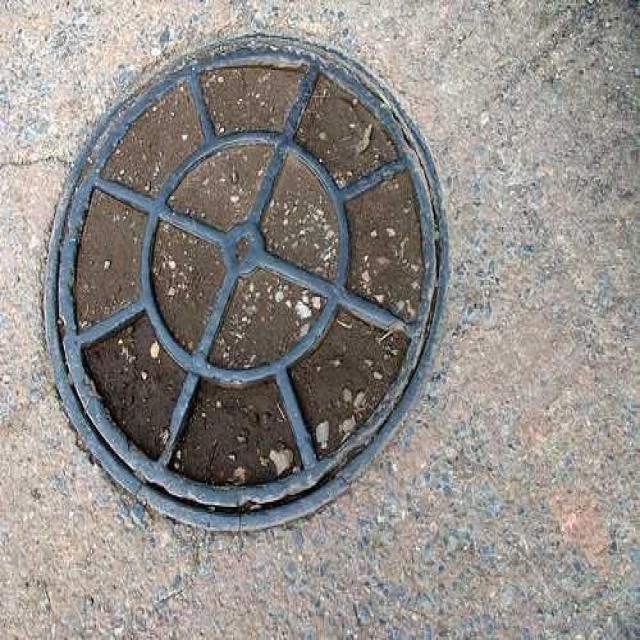manhole: (45, 35, 449, 530)
